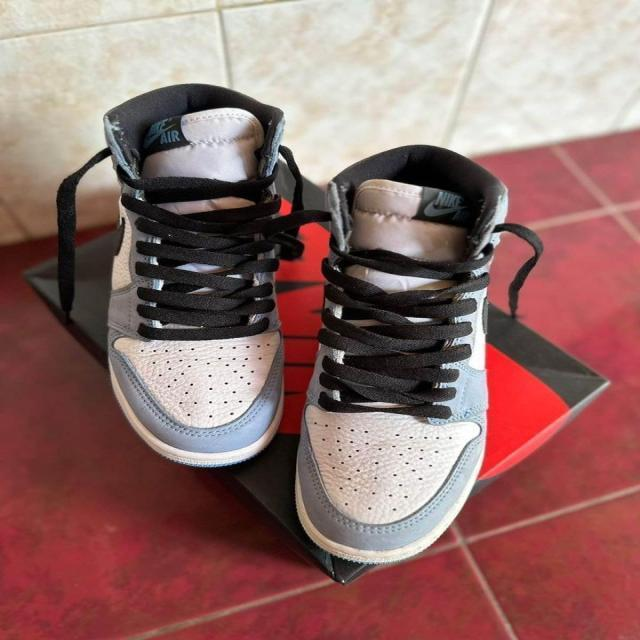nike fake jordan 1: (279, 142, 516, 568), (98, 81, 304, 467)
